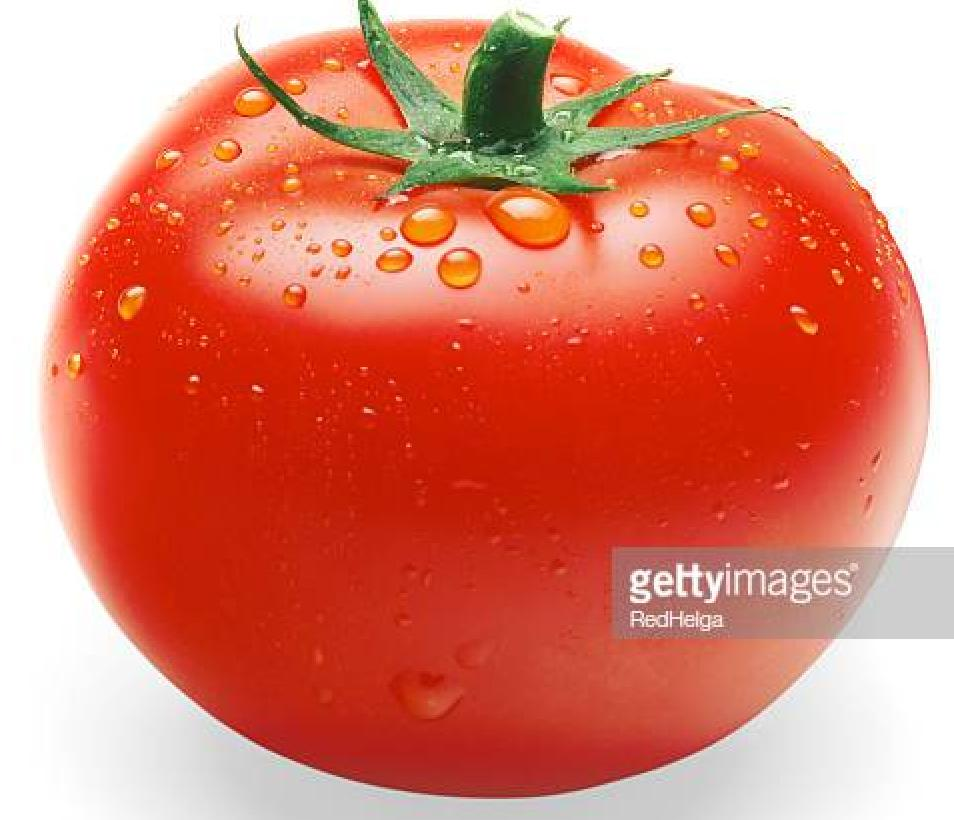tomato: (44, 20, 926, 803)
